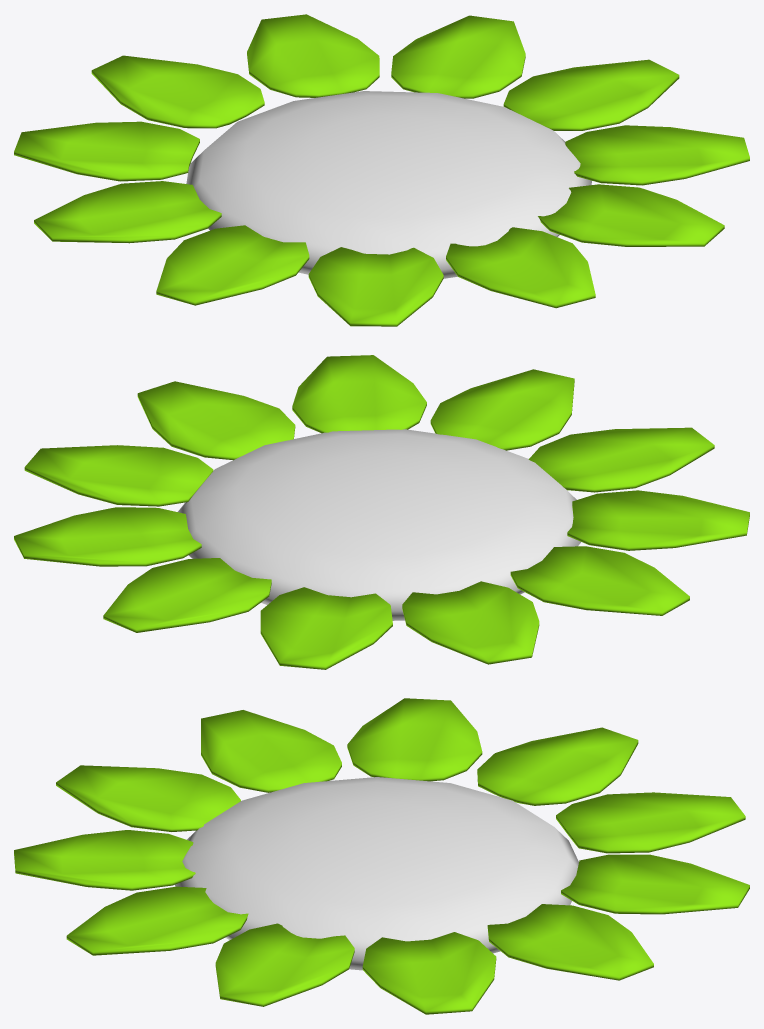
Rendered from bloem.fbx.
3 renders of one model, top to bottom at view 1: azimuth 30°, elevation 25°; view 2: azimuth 150°, elevation 25°; view 3: azimuth 270°, elevation 25°, orthographic.
Parts seen in each view (by area): view 1: Cube.001, Sphere; view 2: Cube.001, Sphere; view 3: Cube.001, Sphere.
Part boxes in pixels (left/top/right/bottom): Cube.001: left=14, top=14, right=749, bottom=326; Sphere: left=186, top=91, right=591, bottom=278; Cube.001: left=14, top=355, right=749, bottom=669; Sphere: left=178, top=429, right=580, bottom=620; Cube.001: left=14, top=698, right=749, bottom=1014; Sphere: left=175, top=777, right=578, bottom=970.
Bounding box in the file's own units: 1819 × 232 × 1808.
